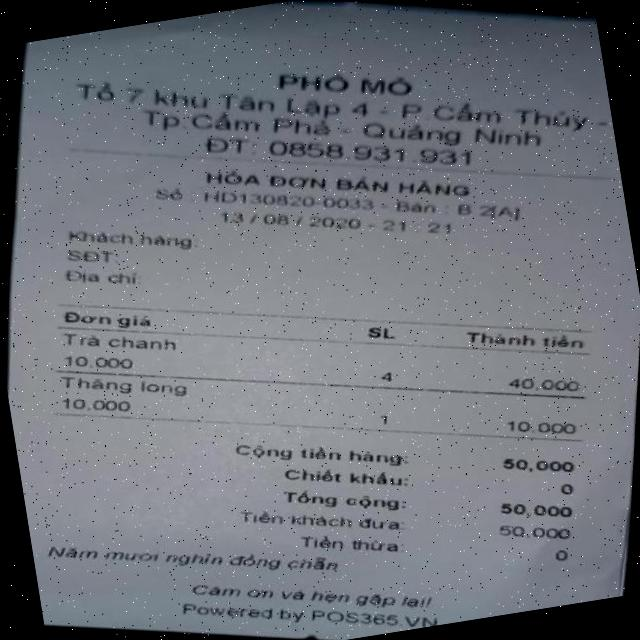Date: (205, 184, 366, 259)
Store_Name: (232, 20, 451, 133)
amount_number: (484, 482, 583, 536)
label_total: (276, 467, 408, 533)
